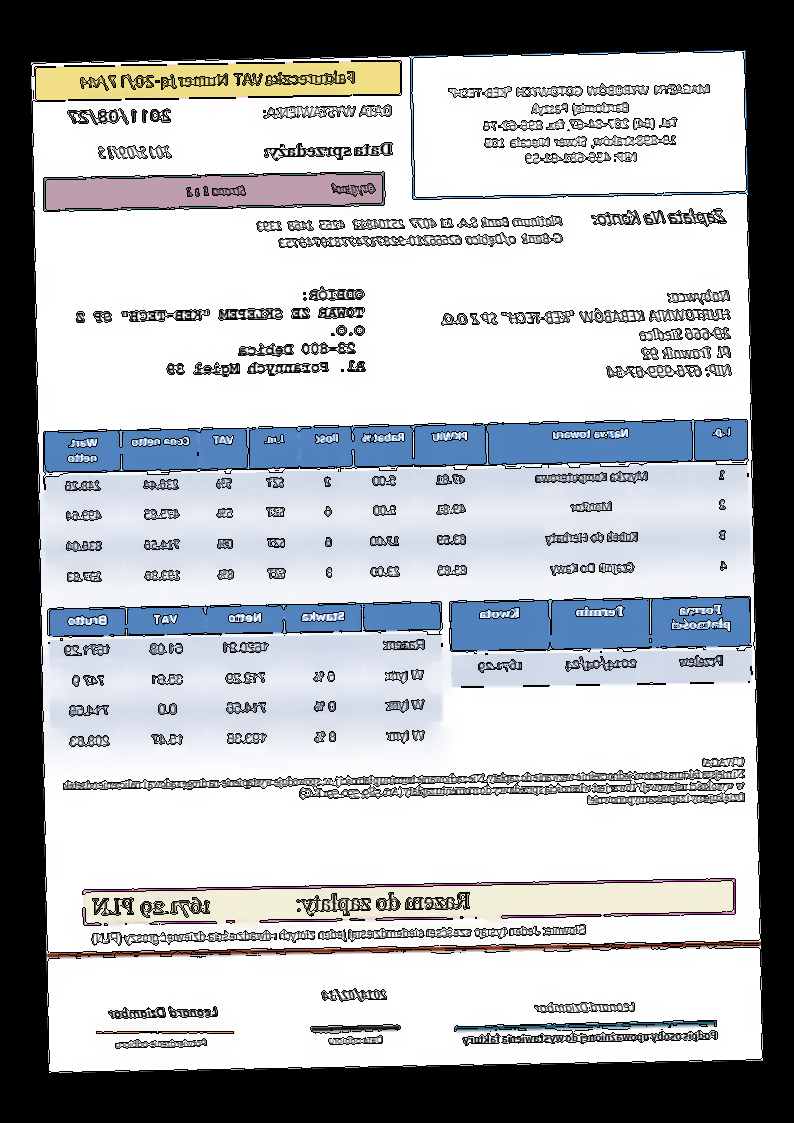Table: (43, 417, 751, 597), (47, 601, 445, 761), (449, 594, 753, 690)
TextBox: (60, 755, 748, 818), (71, 283, 369, 381), (440, 286, 735, 384), (445, 79, 714, 169), (92, 920, 588, 949), (90, 887, 472, 922), (253, 212, 565, 253), (80, 68, 358, 92), (460, 1026, 720, 1048), (186, 182, 377, 201), (591, 206, 729, 230), (261, 140, 395, 162), (262, 101, 395, 122), (67, 107, 173, 129), (109, 1003, 221, 1021), (532, 998, 638, 1016), (97, 143, 173, 162), (115, 1037, 208, 1050), (321, 986, 388, 1003), (328, 1032, 387, 1047)
